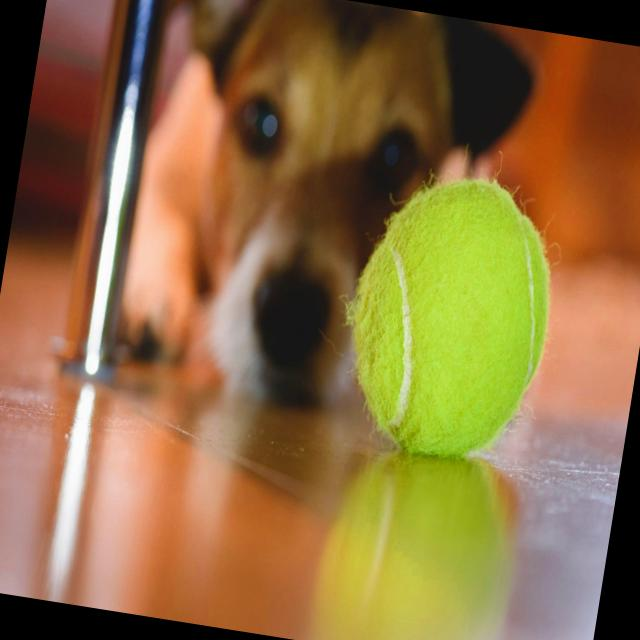ball: (323, 150, 578, 480)
